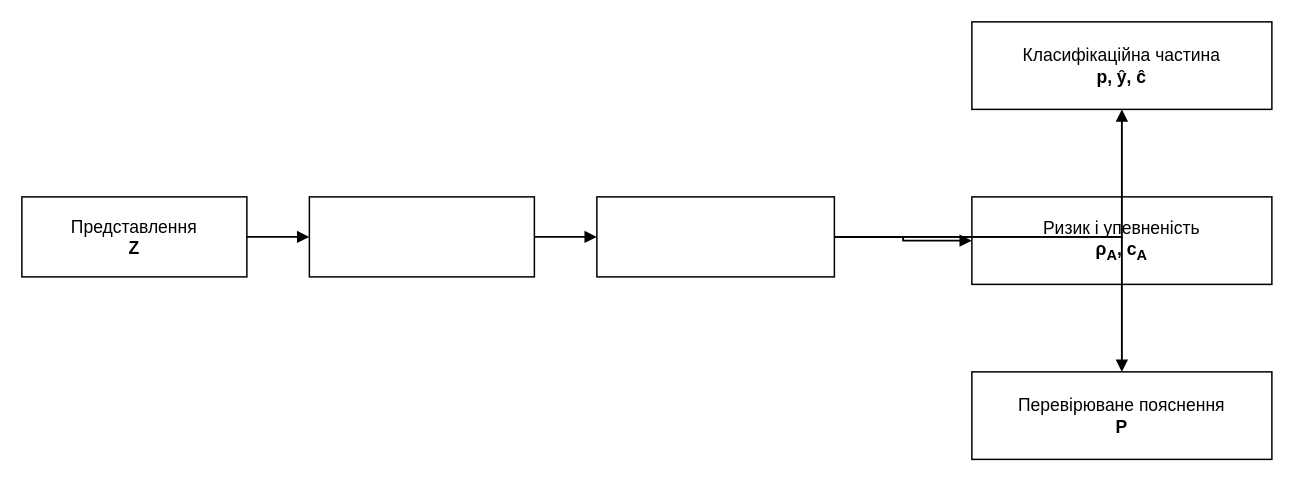
The diagram is 1295 pixels wide and 483 high, and some of its shapes have lost their labels. Each missing label, with the centre of its shape:
Аналітичний стан S A: (715,236)
Функція рішення F D: (421,236)
